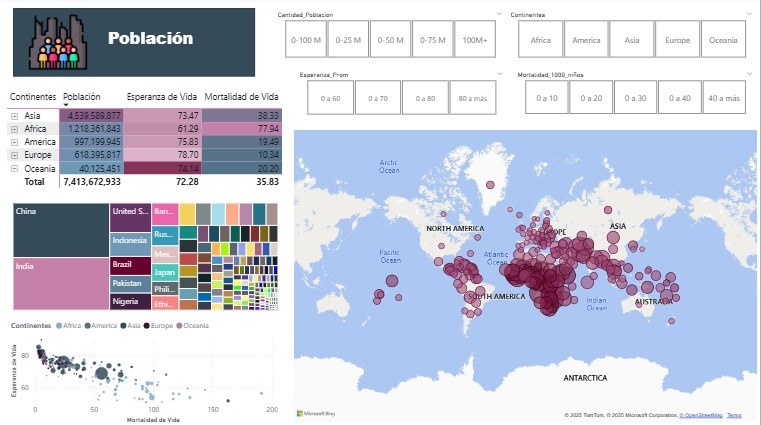

This screenshot's page, from the dashboard's own definition file:
{"tool":"powerbi","page":{"name":"Página 2","canvas":[1280,720],"ordinal":0},"visuals":[{"type":"shape","box":[25,18.3,406.7,115],"z":0},{"type":"pivotTable","fields":{"Values":["Sum(Population.Población)","Avg(Esperanza de Vida.Esperanza de Vida)","Avg(Mortalidad Infantil.Mortalidad de Vida)"],"Rows":["Countries.Continentes Jerarquía.Continentes","Countries.Continentes Jerarquía.País"]},"box":[10,151.7,475,176.7],"z":1000},{"type":"treemap","fields":{"Group":["Population.País"],"Values":["Sum(Population.Población)"]},"box":[20,341.7,455,190],"z":2000},{"type":"slicer","fields":{"Values":["Population.Cantidad_Poblacion"]},"box":[456.7,18.3,403.3,90],"z":3000},{"type":"slicer","fields":{"Values":["Countries.Continentes"]},"box":[848.3,18.3,431.7,90],"z":4000},{"type":"map","fields":{"Size":["Avg(Mortalidad Infantil.Mortalidad de Vida)"],"Category":["Countries.Continentes Jerarquía.Continentes","Countries.Continentes Jerarquía.País"]},"box":[492.9,218.6,787.1,501.4],"z":5000},{"type":"image","box":[16.7,21.7,168.3,108.3],"z":6000},{"type":"textbox","box":[180,45,251.7,88.3],"z":7000},{"type":"slicer","fields":{"Values":["Esperanza de Vida.Esperanza_Prom"]},"box":[493.3,120,366.7,85],"z":8000},{"type":"slicer","fields":{"Values":["Mortalidad Infantil.Mortalidad_1000_niños"]},"box":[860,120,420,84.3],"z":9000},{"type":"scatterChart","fields":{"Category":["Countries.País"],"Series":["Countries.Continentes"],"Y":["Avg(Esperanza de Vida.Esperanza de Vida)"],"X":["Avg(Mortalidad Infantil.Mortalidad de Vida)"],"Size":["Sum(Population.Población)"]},"box":[16.7,531.7,458.3,188.3],"z":10000}]}

Visuals, with their boxes in screenshot pixels (x1, y1, x2, y2), scaled from the page's 1280x720 canvas onto the 761x425 screenshot:
shape: bbox=(15, 11, 257, 79)
pivotTable - Sum(Population.Población) x Avg(Esperanza de Vida.Esperanza de Vida): bbox=(6, 90, 288, 194)
treemap - Population.País x Sum(Population.Población): bbox=(12, 202, 282, 314)
slicer - Population.Cantidad_Poblacion: bbox=(272, 11, 511, 64)
slicer - Countries.Continentes: bbox=(504, 11, 760, 64)
map - Avg(Mortalidad Infantil.Mortalidad de Vida) x Countries.Continentes Jerarquía.Continentes: bbox=(293, 129, 760, 424)
image: bbox=(10, 13, 110, 77)
textbox: bbox=(107, 27, 257, 79)
slicer - Esperanza de Vida.Esperanza_Prom: bbox=(293, 71, 511, 121)
slicer - Mortalidad Infantil.Mortalidad_1000_niños: bbox=(511, 71, 760, 121)
scatterChart - Countries.País x Countries.Continentes: bbox=(10, 314, 282, 424)
